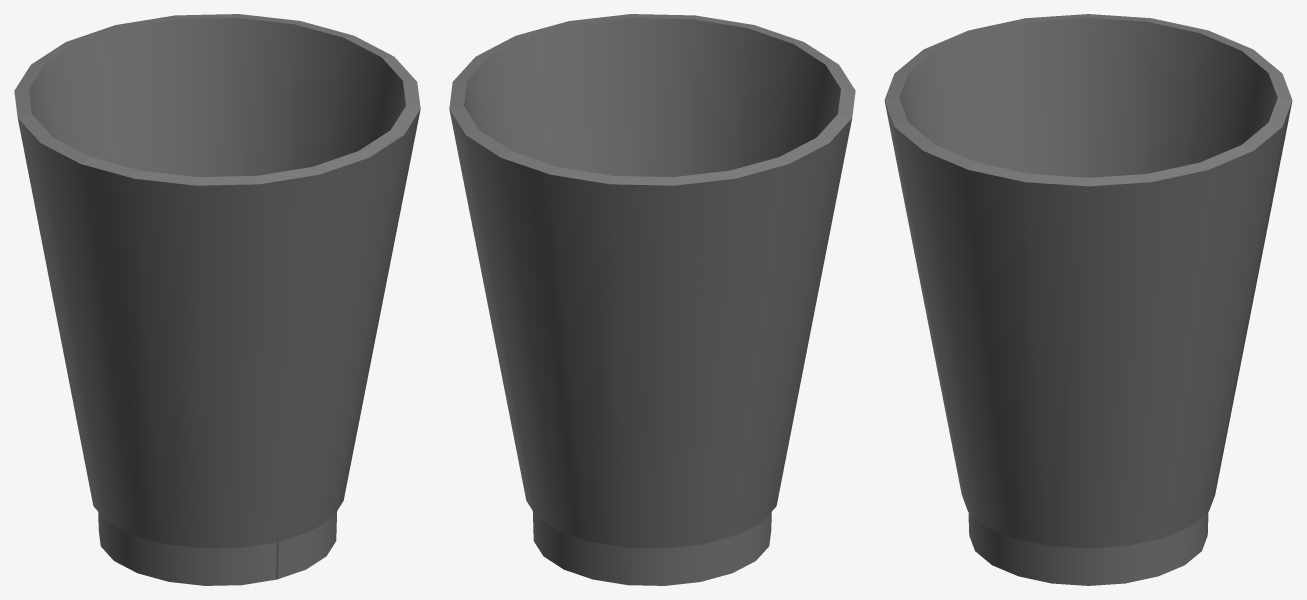
The model's file is Bin_can 1.fbx.
3 renders of one model, left to right at view 1: azimuth 30°, elevation 25°; view 2: azimuth 150°, elevation 25°; view 3: azimuth 270°, elevation 25°, orthographic.
Parts seen in each view (by area): view 1: pasted__pCylinder1; view 2: pasted__pCylinder1; view 3: pasted__pCylinder1.
Boxes of the visible parts, box(x1,y1,x2,y2) form: pasted__pCylinder1: box(14, 14, 420, 585); pasted__pCylinder1: box(449, 14, 855, 585); pasted__pCylinder1: box(884, 14, 1292, 585).
Size of the model in its own units: 130 by 154 by 130.
1 material, 1 textured.
